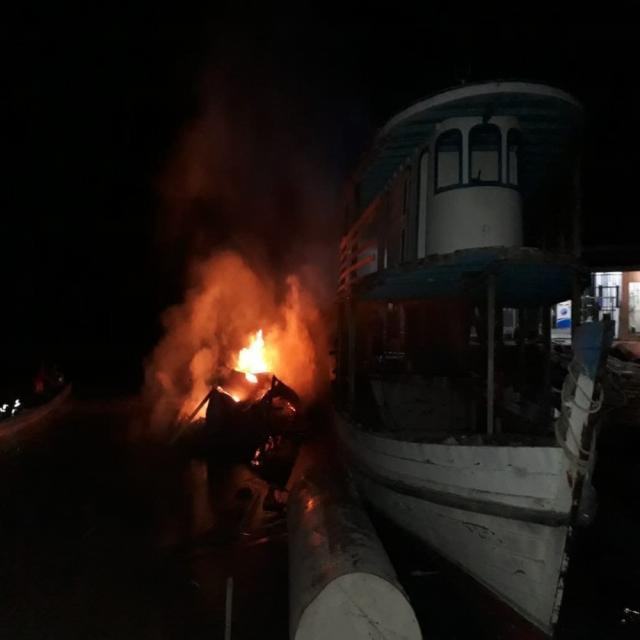Fire: (231, 322, 275, 392)
